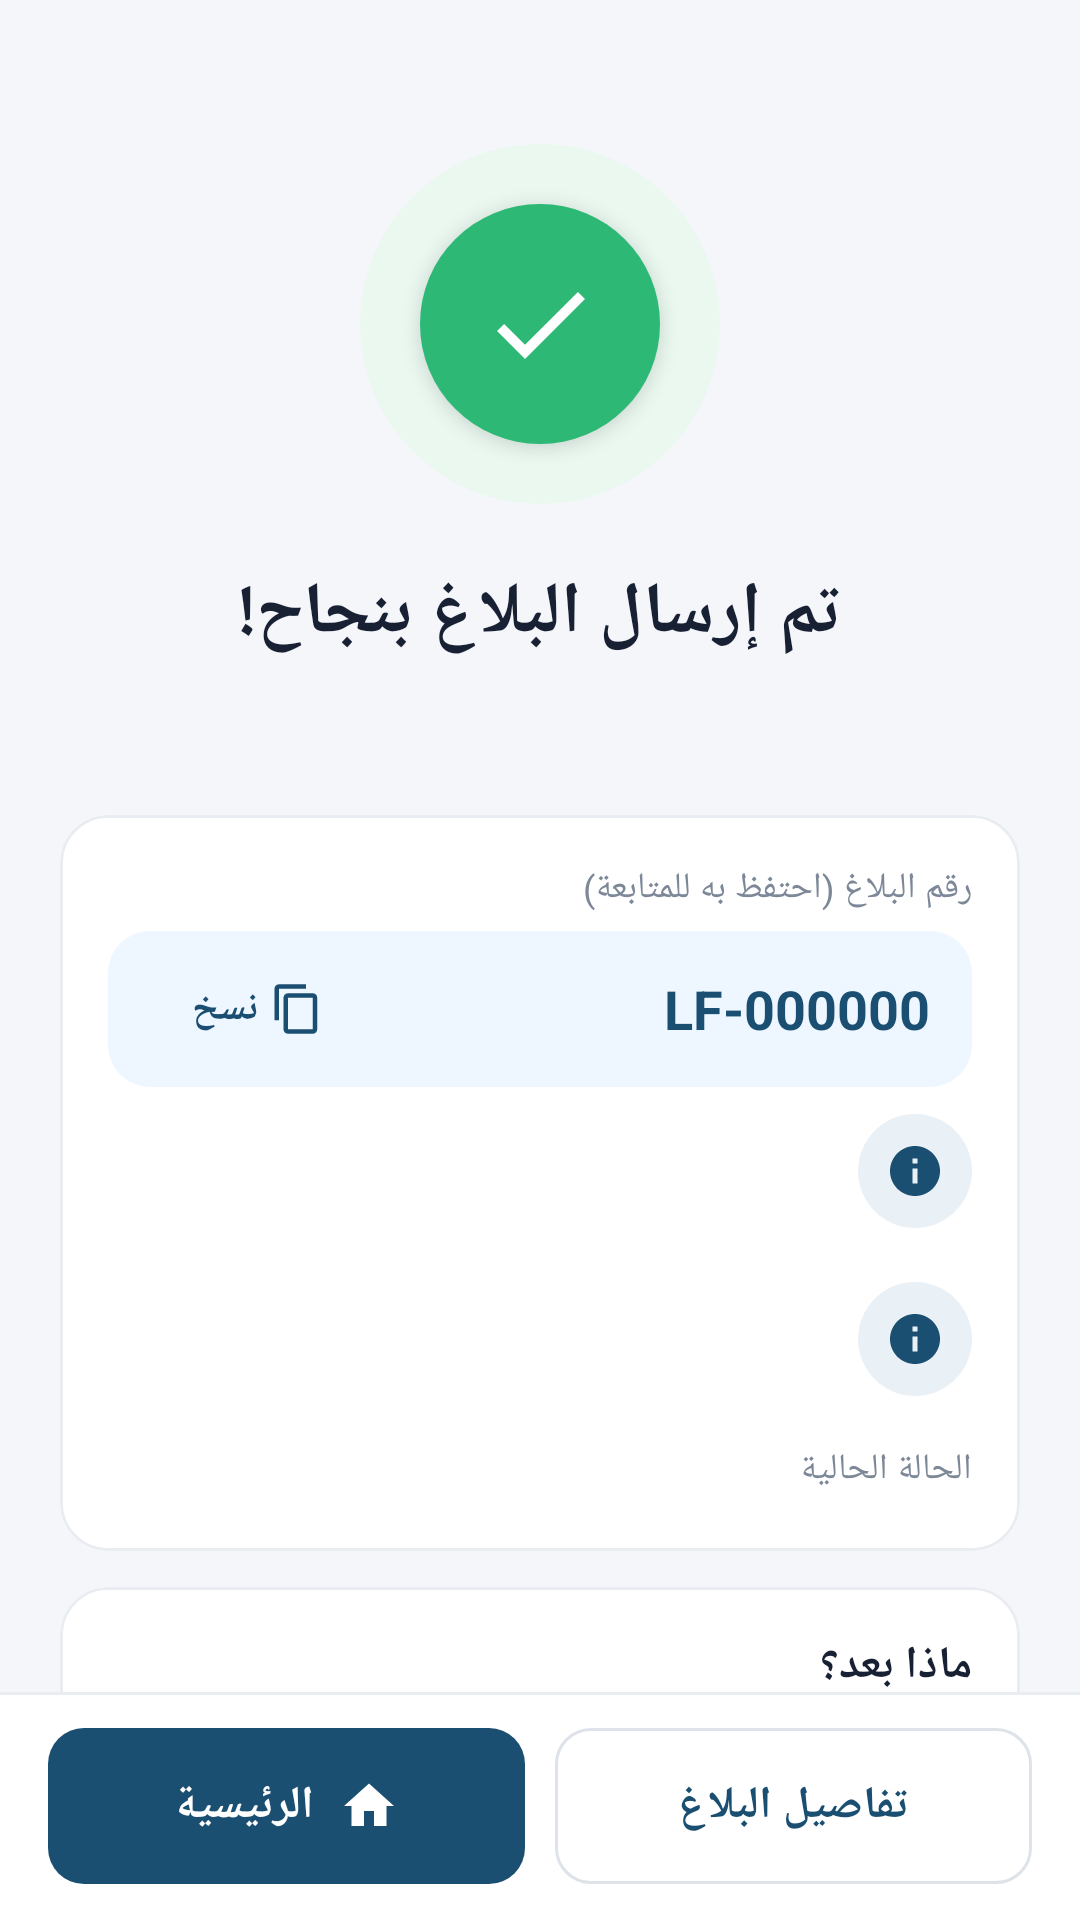

Icon click points for this 1080*1920 phone screenshot, format (x=x, y=y):
check: (x=540, y=324)
info: (x=915, y=1171), (x=915, y=1339)
